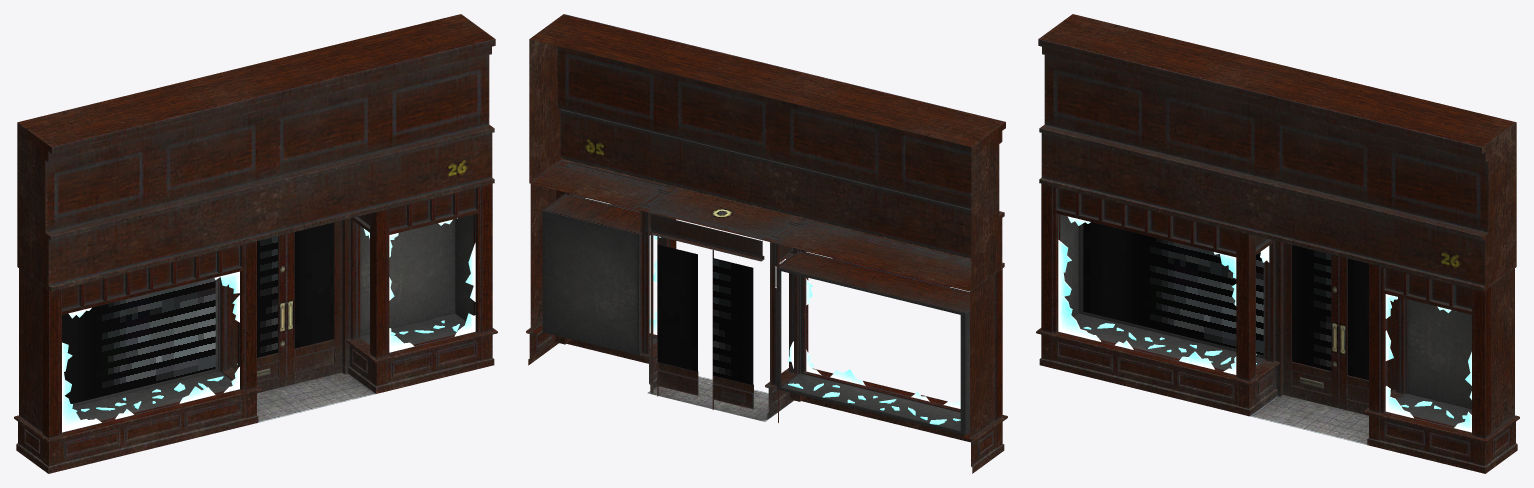
File: sm0038_storewood01.fbx
3 views of the same model, side by side, from view 1: azimuth 30°, elevation 25°; view 2: azimuth 150°, elevation 25°; view 3: azimuth 330°, elevation 25° (orthographic).
Visible parts, largest first — view 1: LOD_1_Group_0_Sub_4__sm0038_storeWood01_B_mat, LOD_1_Group_0_Sub_1__sm0038_storeWood01_A_mat, LOD_1_Group_0_Sub_5__sm0038_storeWood01_E_mat, LOD_1_Group_0_Sub_3__sm0038_storeWood01_C_mat, LOD_1_Group_0_Sub_2__sm0038_storeWood01_D_mat; view 2: LOD_1_Group_0_Sub_4__sm0038_storeWood01_B_mat, LOD_1_Group_0_Sub_3__sm0038_storeWood01_C_mat, LOD_1_Group_0_Sub_1__sm0038_storeWood01_A_mat, LOD_1_Group_0_Sub_5__sm0038_storeWood01_E_mat, LOD_1_Group_0_Sub_2__sm0038_storeWood01_D_mat; view 3: LOD_1_Group_0_Sub_4__sm0038_storeWood01_B_mat, LOD_1_Group_0_Sub_1__sm0038_storeWood01_A_mat, LOD_1_Group_0_Sub_5__sm0038_storeWood01_E_mat, LOD_1_Group_0_Sub_3__sm0038_storeWood01_C_mat, LOD_1_Group_0_Sub_2__sm0038_storeWood01_D_mat.
Boxes of the visible parts, bbox=[...] form: LOD_1_Group_0_Sub_4__sm0038_storeWood01_B_mat: bbox=[17, 14, 495, 432]; LOD_1_Group_0_Sub_1__sm0038_storeWood01_A_mat: bbox=[14, 183, 497, 473]; LOD_1_Group_0_Sub_5__sm0038_storeWood01_E_mat: bbox=[62, 222, 333, 403]; LOD_1_Group_0_Sub_3__sm0038_storeWood01_C_mat: bbox=[72, 214, 473, 420]; LOD_1_Group_0_Sub_2__sm0038_storeWood01_D_mat: bbox=[62, 218, 475, 432]; LOD_1_Group_0_Sub_4__sm0038_storeWood01_B_mat: bbox=[529, 14, 1005, 438]; LOD_1_Group_0_Sub_3__sm0038_storeWood01_C_mat: bbox=[542, 194, 969, 435]; LOD_1_Group_0_Sub_1__sm0038_storeWood01_A_mat: bbox=[526, 163, 1007, 473]; LOD_1_Group_0_Sub_5__sm0038_storeWood01_E_mat: bbox=[657, 244, 753, 385]; LOD_1_Group_0_Sub_2__sm0038_storeWood01_D_mat: bbox=[585, 198, 969, 424]; LOD_1_Group_0_Sub_4__sm0038_storeWood01_B_mat: bbox=[1038, 14, 1516, 444]; LOD_1_Group_0_Sub_1__sm0038_storeWood01_A_mat: bbox=[1036, 183, 1519, 473]; LOD_1_Group_0_Sub_5__sm0038_storeWood01_E_mat: bbox=[1083, 222, 1368, 380]; LOD_1_Group_0_Sub_3__sm0038_storeWood01_C_mat: bbox=[1060, 214, 1471, 426]; LOD_1_Group_0_Sub_2__sm0038_storeWood01_D_mat: bbox=[1058, 216, 1471, 432].
Bounding box in the file's own units: 890 × 620 × 118.
